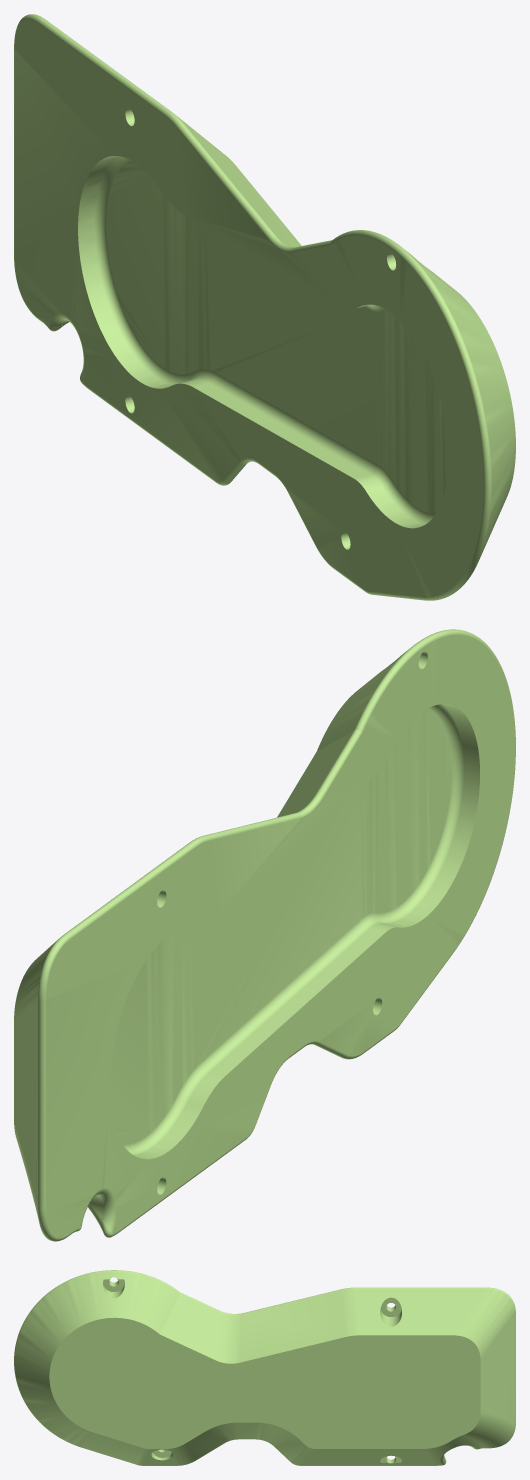
Rendered from Main_CaseOutside_2.dae.
3 views of the same model, one above another, from view 1: azimuth 30°, elevation 25°; view 2: azimuth 150°, elevation 25°; view 3: azimuth 270°, elevation 25° (orthographic). The views are drawn at different scales.
Parts seen in each view (by area): view 1: Main_CaseOutside_2; view 2: Main_CaseOutside_2; view 3: Main_CaseOutside_2.
Part boxes in pixels (x1=…): Main_CaseOutside_2: x1=14, y1=14, x2=515, y2=600; Main_CaseOutside_2: x1=14, y1=629, x2=515, y2=1241; Main_CaseOutside_2: x1=14, y1=1270, x2=515, y2=1465.
Bounding box in the file's own units: 0.008 × 0.1034 × 0.0444.
